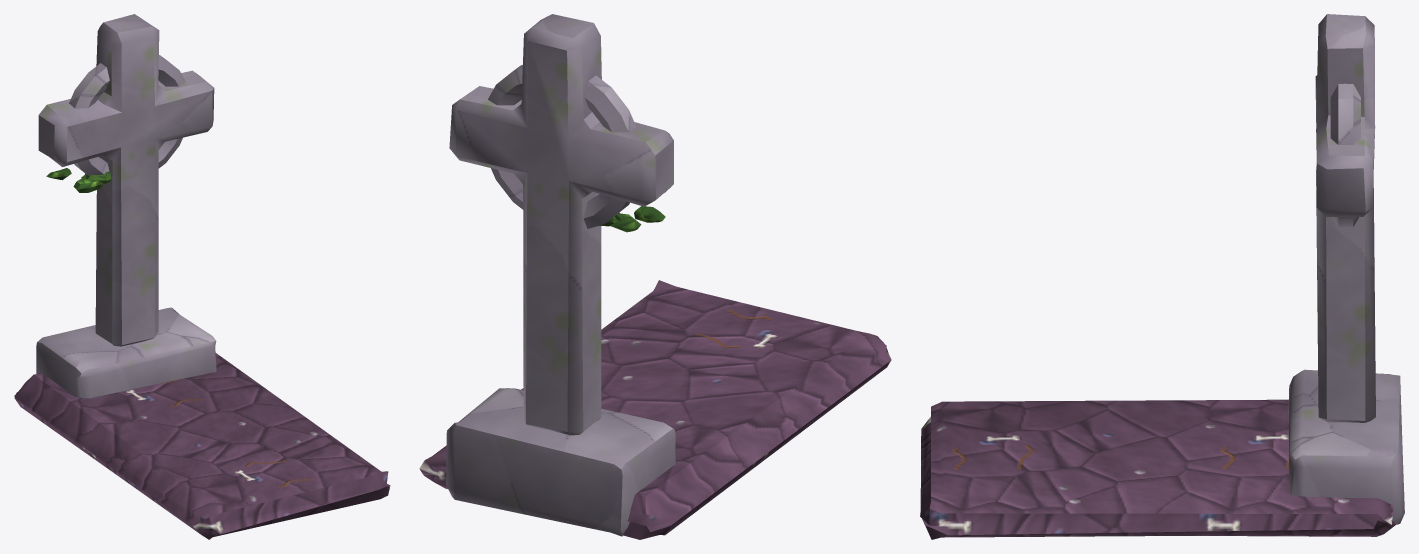
Rendered from gravestone_celtic.gltf.
3 renders of one model, left to right at view 1: azimuth 30°, elevation 25°; view 2: azimuth 150°, elevation 25°; view 3: azimuth 270°, elevation 25°, orthographic. The views are drawn at different scales.
Parts seen in each view (by area): view 1: gravestone_celtic_mesh; view 2: gravestone_celtic_mesh; view 3: gravestone_celtic_mesh.
Part boxes in pixels (x1,y1,x2,y2): gravestone_celtic_mesh: [14, 14, 390, 539]; gravestone_celtic_mesh: [419, 14, 891, 539]; gravestone_celtic_mesh: [920, 14, 1404, 539].
Size of what is drawn, in the model's own units: 0.8345 by 1.52 by 1.44.
3 materials, 3 textured.
